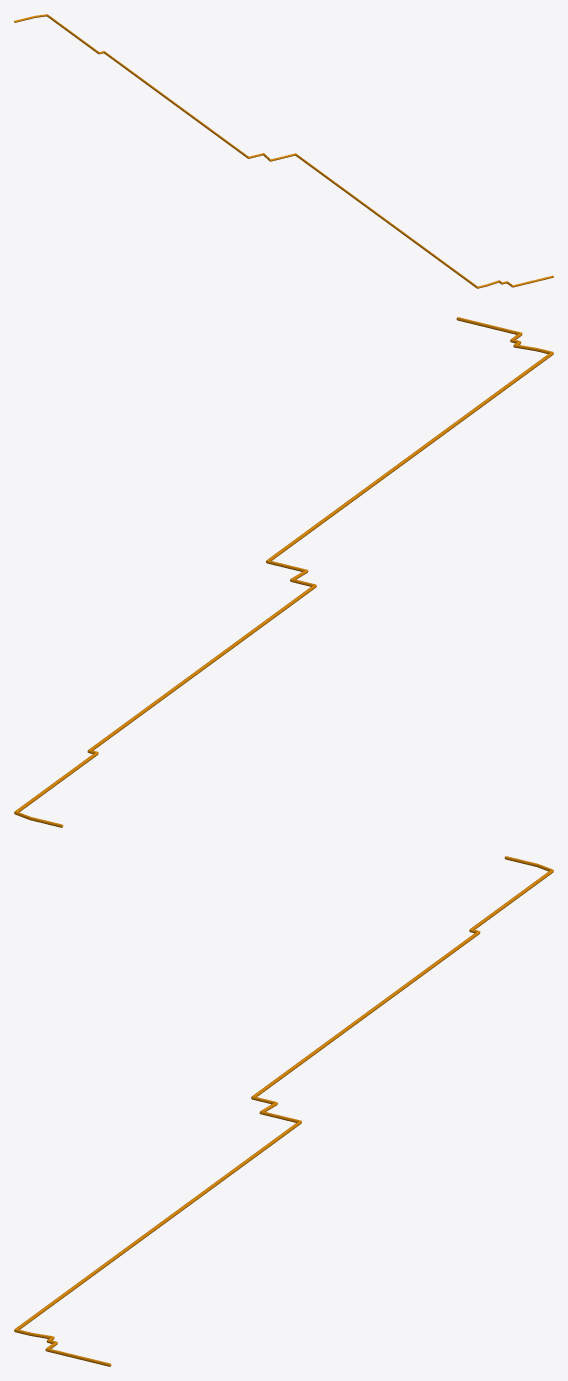
The picture shows the model from 3 angles, top to bottom: view 1: azimuth 30°, elevation 25°; view 2: azimuth 150°, elevation 25°; view 3: azimuth 330°, elevation 25°; orthographic projection. The views are drawn at different scales.
Bounding box in the file's own units: 1440 × 20 × 6868.
